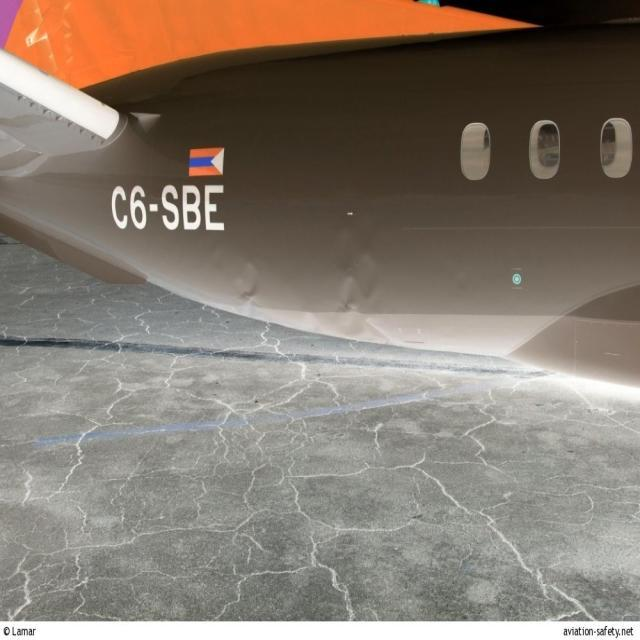dent: (330, 225, 385, 343), (228, 262, 267, 322)
